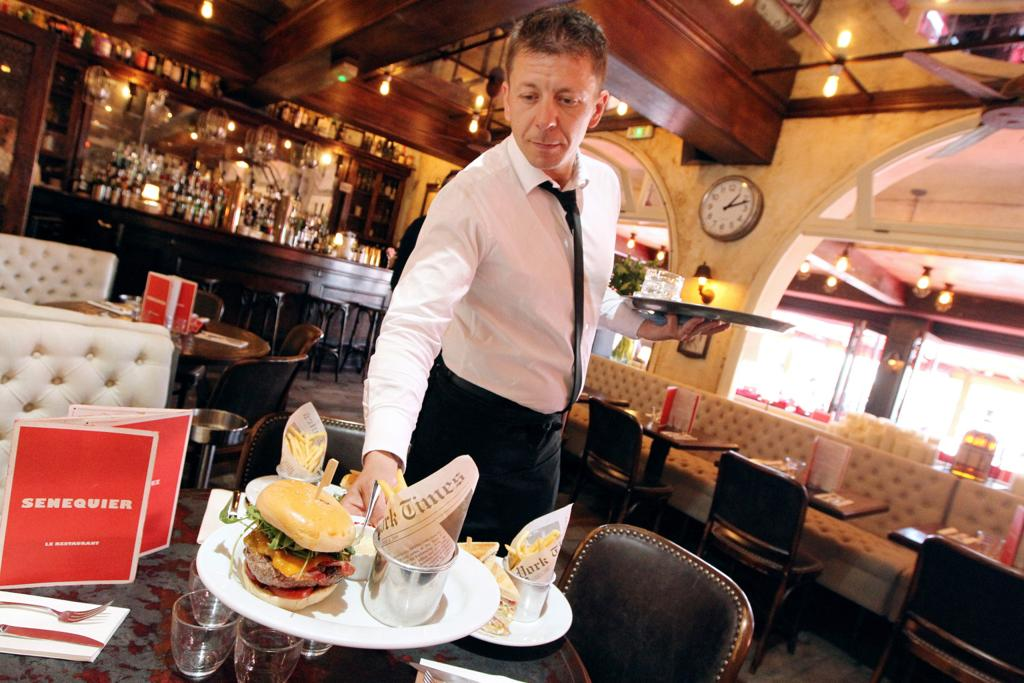face: (502, 46, 596, 172)
